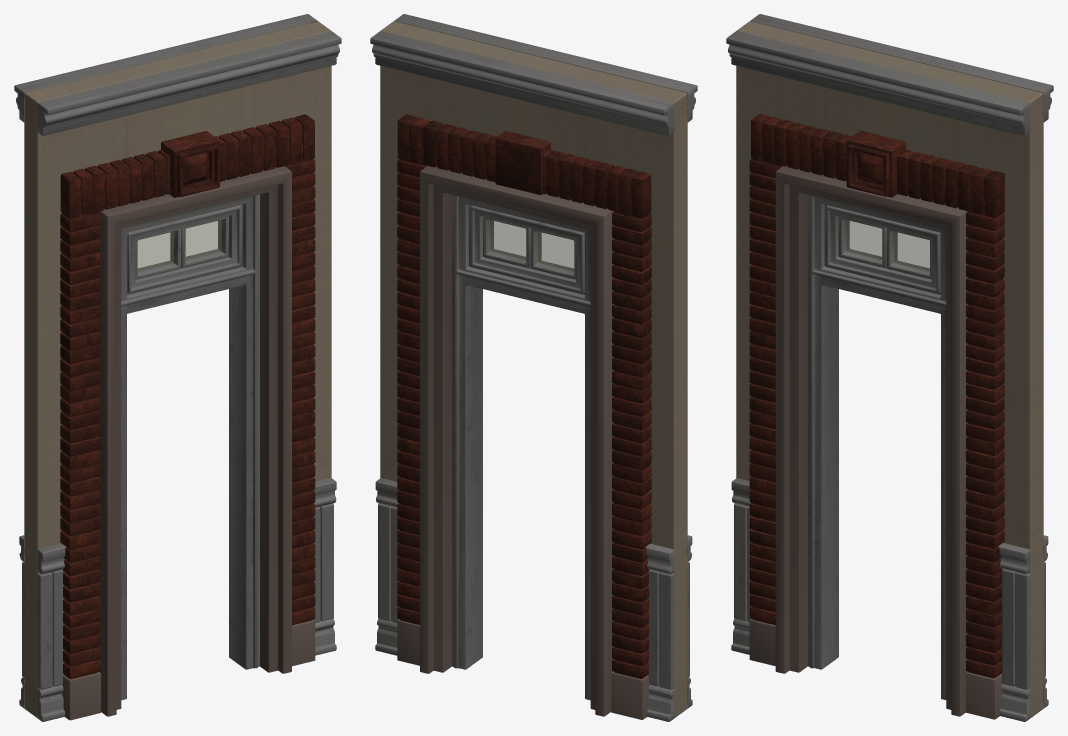
File: SK4 DOOR 1 INT.fbx
The picture shows the model from 3 angles, left to right: view 1: azimuth 30°, elevation 25°; view 2: azimuth 150°, elevation 25°; view 3: azimuth 330°, elevation 25°; orthographic projection.
Visible parts, largest first — view 1: SK4 DOOR 1 INT.007; view 2: SK4 DOOR 1 INT.007; view 3: SK4 DOOR 1 INT.007.
Part boxes in pixels (<box>): SK4 DOOR 1 INT.007: <box>14,14,341,721</box>; SK4 DOOR 1 INT.007: <box>370,14,697,721</box>; SK4 DOOR 1 INT.007: <box>726,14,1053,721</box>.
Size of the model in its own units: 200 by 400 by 52.82.
